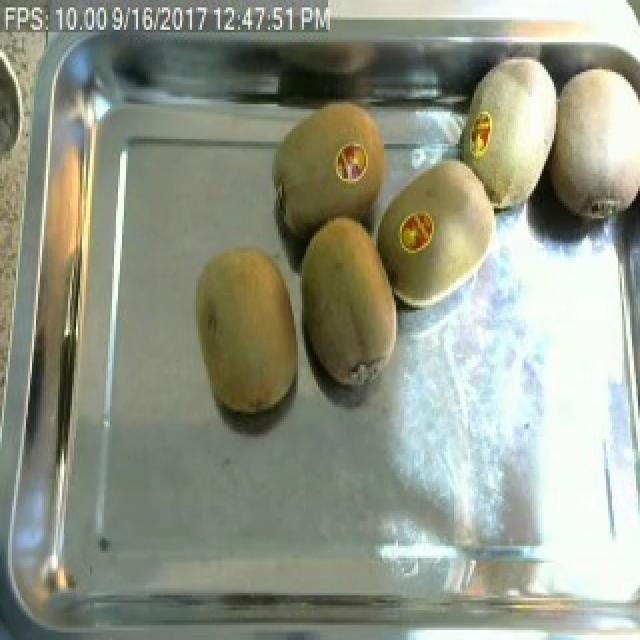Fruit: (184, 236, 310, 427), (286, 206, 408, 397), (268, 94, 404, 253), (390, 149, 506, 317), (452, 42, 558, 221), (550, 50, 640, 238)
